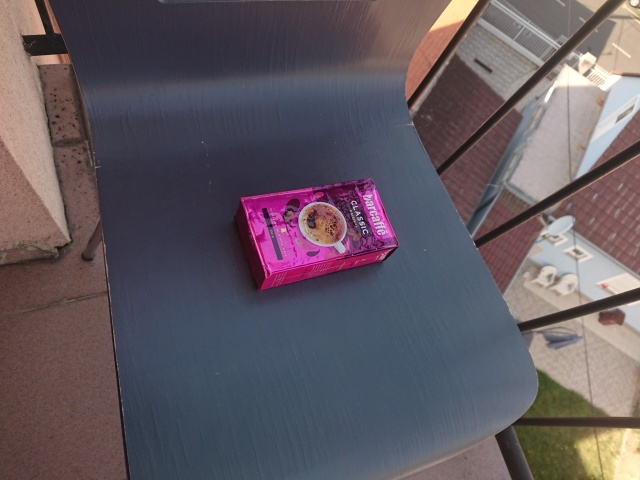Barcaffe Classic Original 225g: (232, 175, 401, 294)
